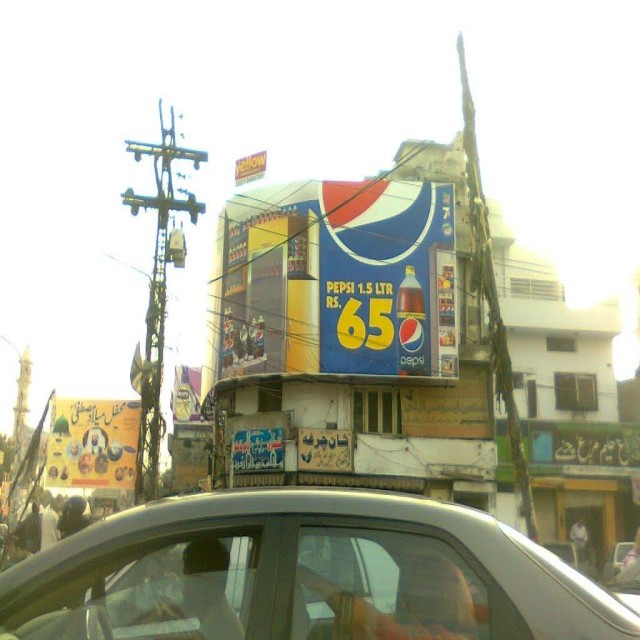pepsi: (397, 314, 426, 356)
